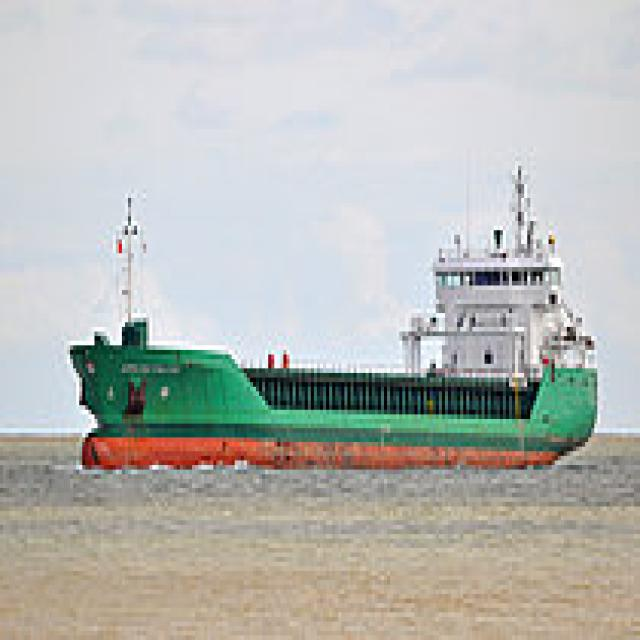Cargo: (64, 152, 597, 470)
